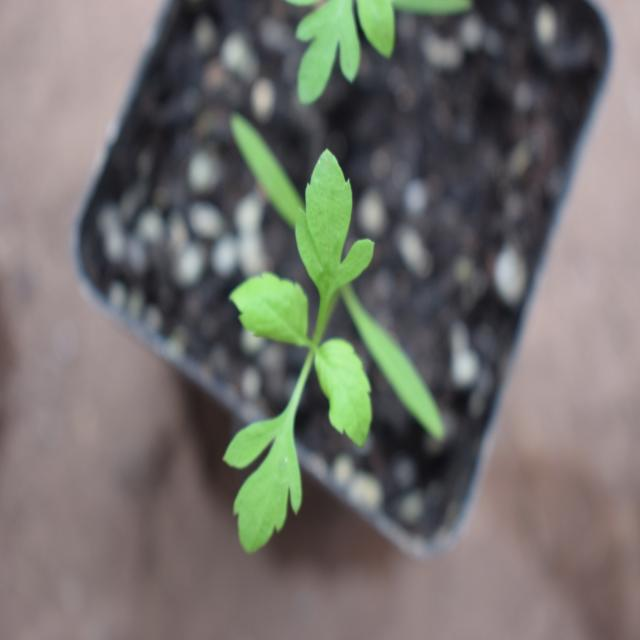Bidens pilosa: (197, 129, 422, 545)
